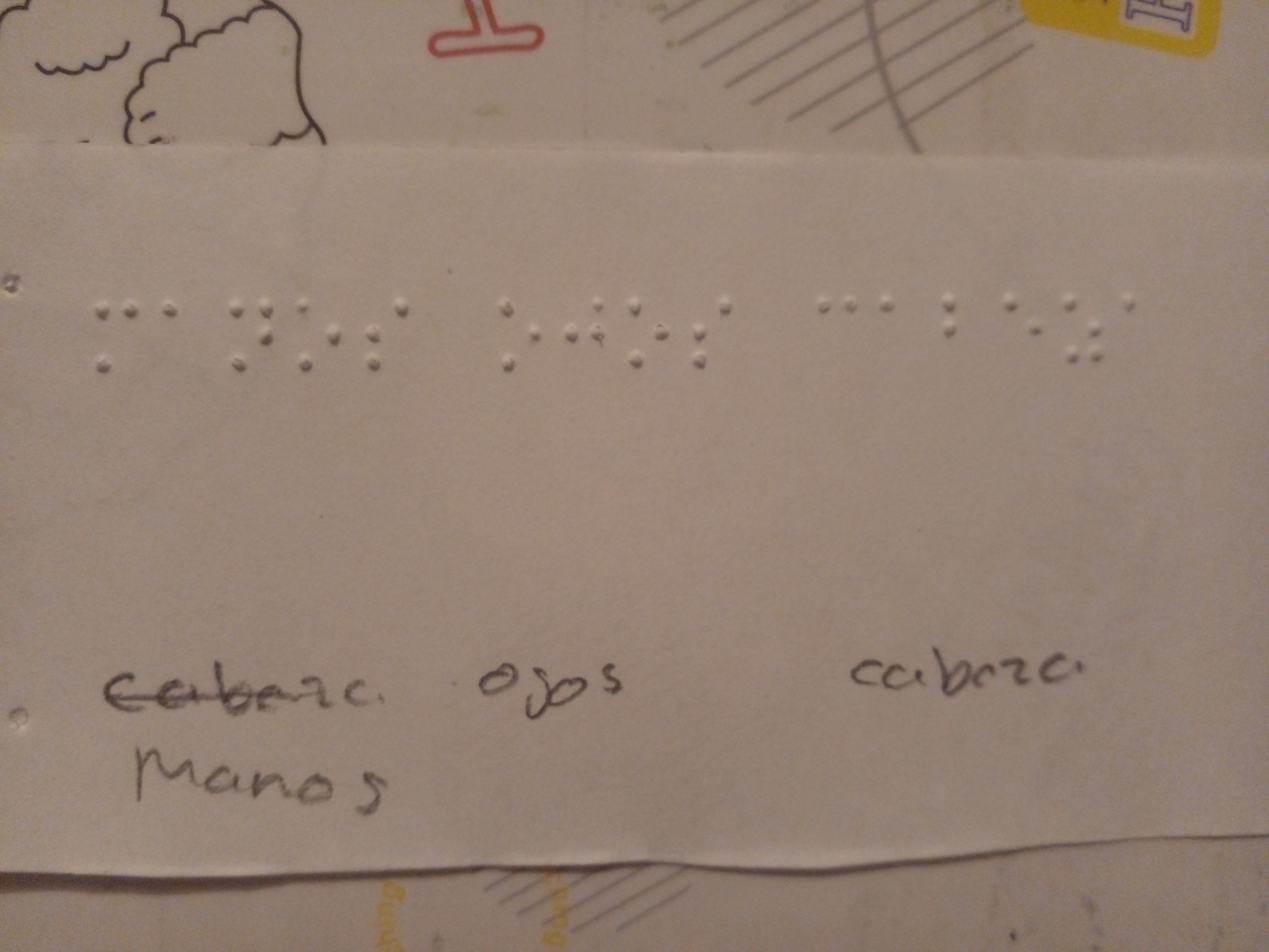a: (1111, 274, 1168, 384), (152, 285, 200, 380), (874, 274, 917, 369)
b: (931, 270, 971, 353)
c: (818, 276, 867, 369)
e: (990, 273, 1046, 364)
j: (545, 270, 612, 386)
m: (77, 279, 146, 386)
n: (217, 280, 287, 390)
o: (293, 285, 344, 389), (621, 288, 674, 383), (496, 287, 544, 381)
s: (682, 279, 739, 384), (358, 285, 414, 390)
z: (1064, 276, 1115, 383)
